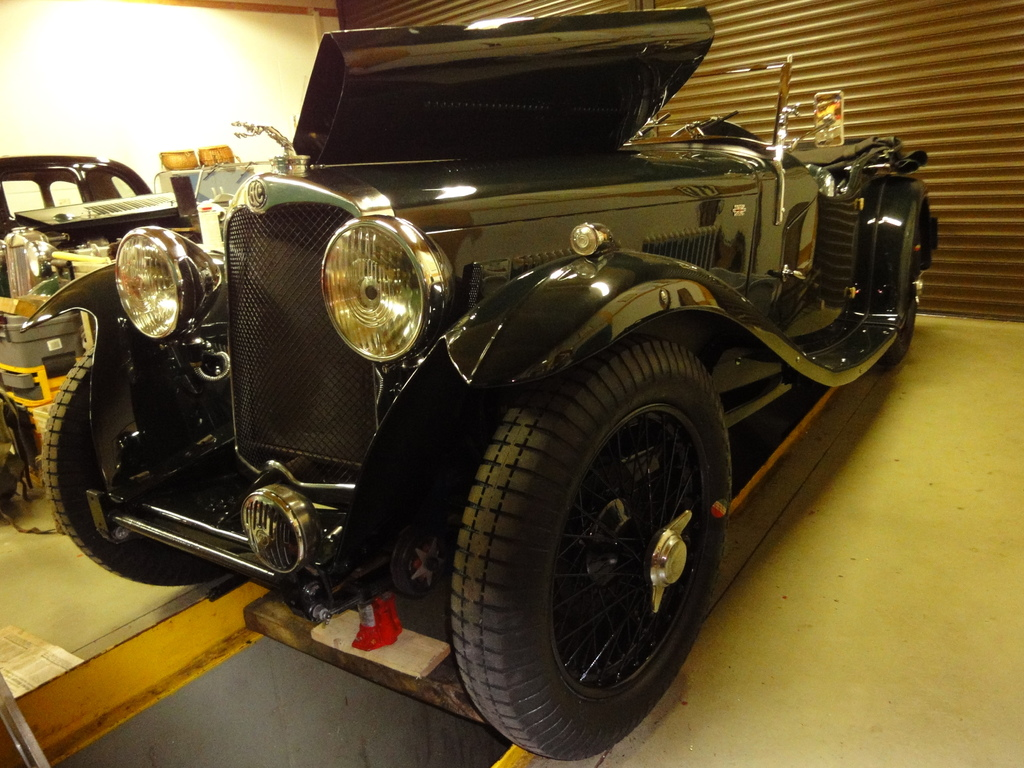Car: (19, 4, 943, 766), (0, 156, 161, 291)
